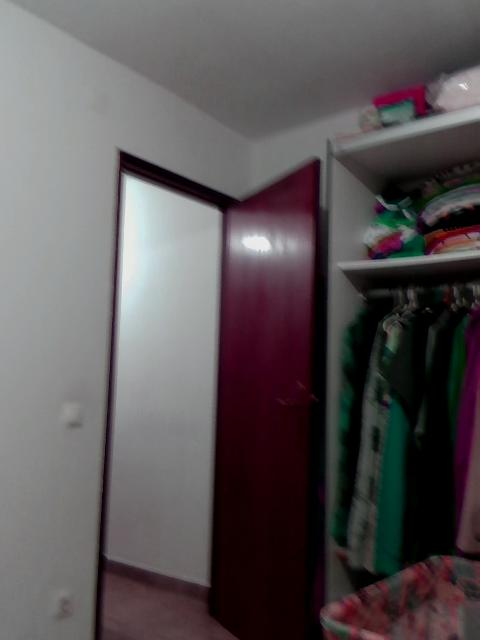open_door: (95, 144, 250, 638)
